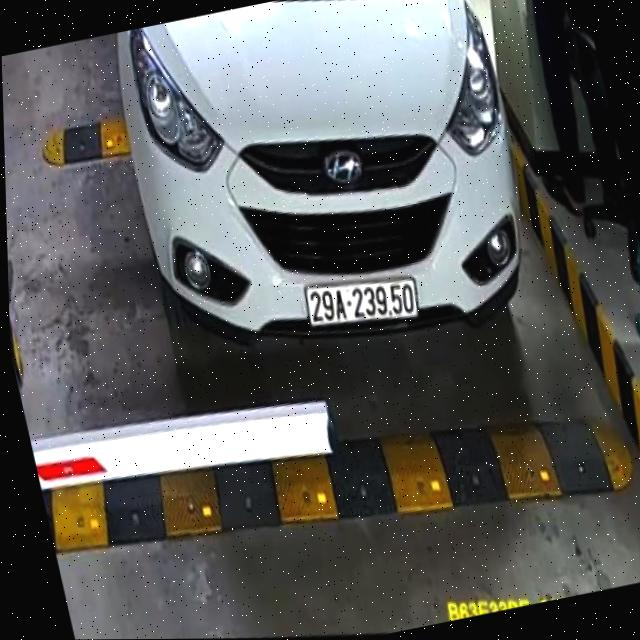car: (93, 0, 560, 390)
plate: (294, 259, 429, 346)
